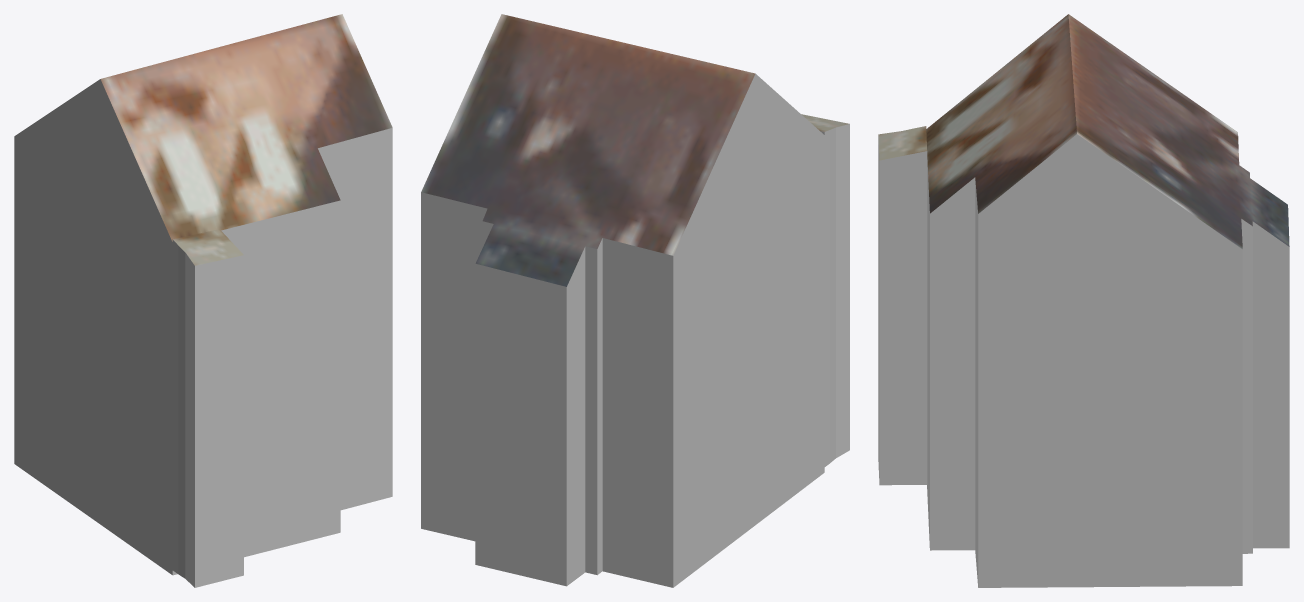
File: DEBW_0010007TxgW.gltf
3 views of the same model, side by side, from view 1: azimuth 30°, elevation 25°; view 2: azimuth 150°, elevation 25°; view 3: azimuth 270°, elevation 25° (orthographic).
Visible parts, largest first — view 1: Z_UP; view 2: Z_UP; view 3: Z_UP.
Boxes of the visible parts, bbox=[...] form: Z_UP: bbox=[14, 14, 392, 587]; Z_UP: bbox=[421, 14, 849, 587]; Z_UP: bbox=[878, 14, 1289, 587].
Size of the model in its own units: 11.65 by 19.9 by 16.36.
Materials: 2 (1 with a texture image).
